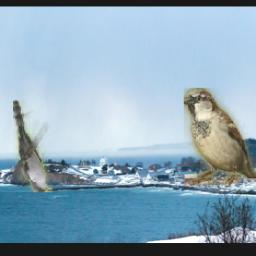Cuckoo: (13, 100, 53, 192)
Sparrow: (184, 88, 256, 186)
